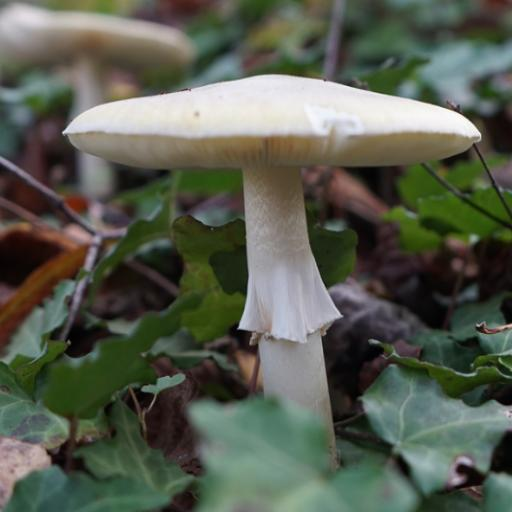mushroom: (0, 0, 486, 462)
